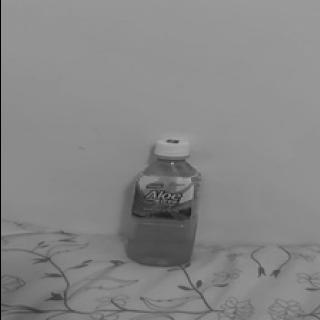plastic_bottles: (123, 126, 201, 274)
